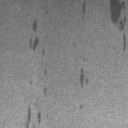red iron: (110, 0, 126, 32), (80, 68, 89, 88), (30, 36, 39, 52), (26, 107, 32, 128), (32, 20, 37, 32), (37, 112, 42, 124), (123, 32, 126, 50), (82, 2, 86, 14), (42, 48, 46, 56)
